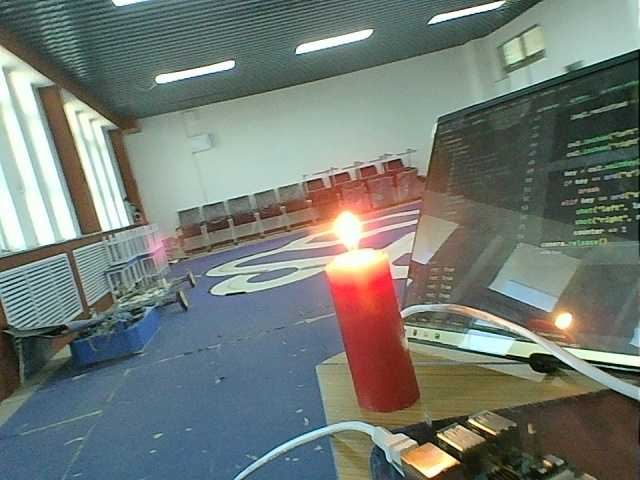candle: (320, 259, 429, 418)
fire: (325, 207, 374, 256)
